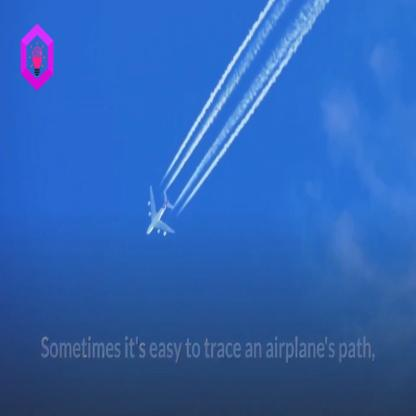plane: (138, 181, 179, 237)
